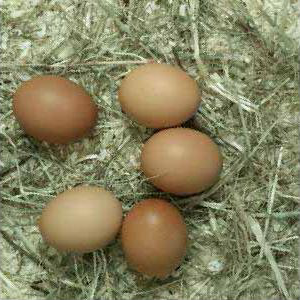egg: (13, 75, 98, 144), (40, 186, 123, 251), (141, 129, 223, 194), (123, 198, 186, 281), (119, 65, 200, 128)
